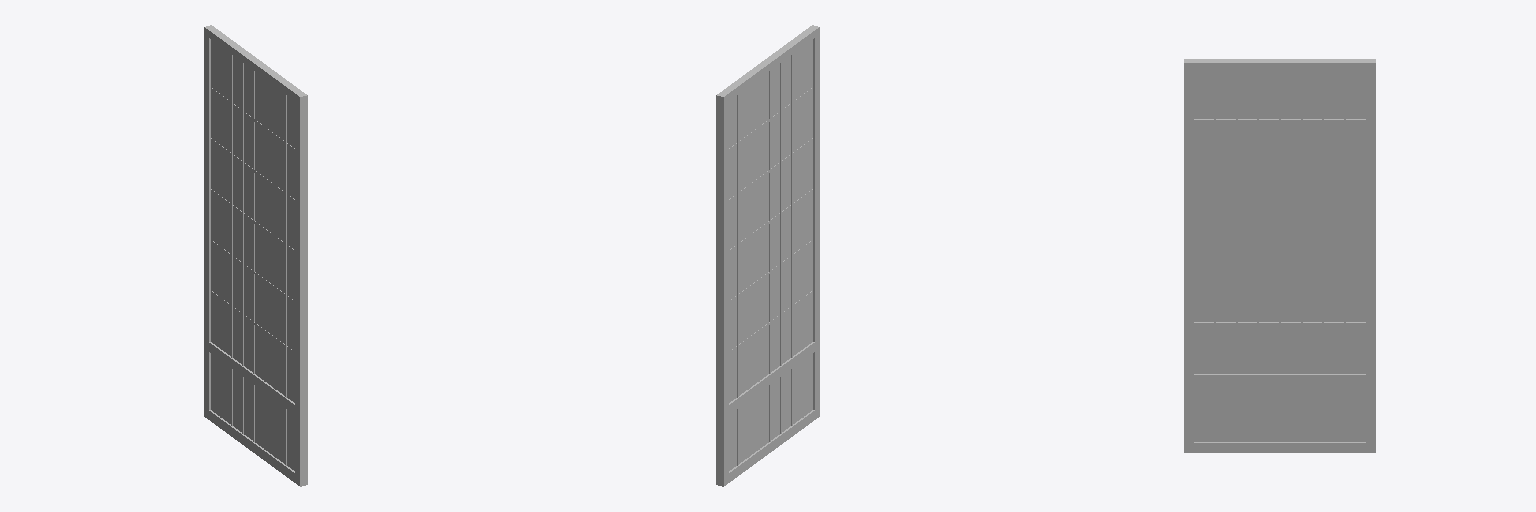
The model's file is porte.obj.
The picture shows the model from 3 angles: view 1: azimuth 30°, elevation 25°; view 2: azimuth 150°, elevation 25°; view 3: azimuth 270°, elevation 25°; orthographic projection.
Visible parts, largest first — view 1: StaticMeshActor_305; view 2: StaticMeshActor_305; view 3: StaticMeshActor_305.
Boxes of the visible parts, x1=… form: StaticMeshActor_305: x1=204, y1=25, x2=307, y2=486; StaticMeshActor_305: x1=716, y1=25, x2=819, y2=486; StaticMeshActor_305: x1=1184, y1=59, x2=1375, y2=452.
Bounding box in the file's own units: 4 × 200 × 89.25.